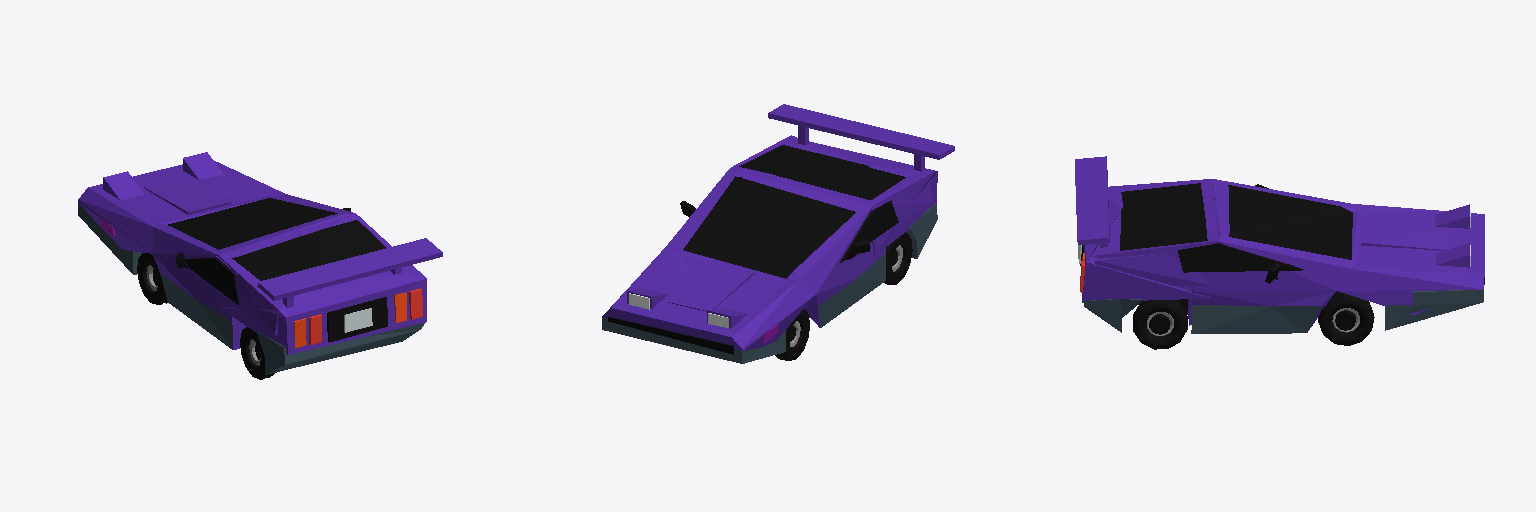
3 views of the same model, side by side, from view 1: azimuth 30°, elevation 25°; view 2: azimuth 150°, elevation 25°; view 3: azimuth 270°, elevation 25° (orthographic).
Parts seen in each view (by area): view 1: group[number redacted], group[number redacted], group[number redacted], group[number redacted], group[number redacted], group[number redacted], group[number redacted], group[number redacted], group[number redacted], group[number redacted], group[number redacted], group[number redacted] (+1 smaller); view 2: group[number redacted], group[number redacted], group[number redacted], group[number redacted], group[number redacted], group[number redacted], group[number redacted], group[number redacted], group[number redacted], group[number redacted], group[number redacted]; view 3: group[number redacted], group[number redacted], group[number redacted], group[number redacted], group[number redacted], group[number redacted], group[number redacted], group[number redacted], group[number redacted], group[number redacted], group[number redacted], group[number redacted].
Part boxes in pixels (x1,y1,x2,y2): group[number redacted]: (78, 161, 354, 349); group[number redacted]: (218, 213, 426, 354); group[number redacted]: (257, 238, 442, 300); group[number redacted]: (256, 323, 424, 374); group[number redacted]: (144, 177, 230, 214); group[number redacted]: (327, 297, 387, 342); group[number redacted]: (185, 257, 239, 304); group[number redacted]: (216, 256, 277, 335); group[number redacted]: (78, 203, 141, 274); group[number redacted]: (137, 253, 166, 304); group[number redacted]: (103, 171, 143, 199); group[number redacted]: (183, 152, 223, 179); group[number redacted]: (602, 168, 885, 350); group[number redacted]: (731, 135, 937, 255); group[number redacted]: (768, 104, 954, 159); group[number redacted]: (667, 261, 754, 311); group[number redacted]: (602, 317, 785, 363); group[number redacted]: (840, 200, 898, 262); group[number redacted]: (871, 180, 931, 244); group[number redacted]: (608, 317, 733, 354); group[number redacted]: (884, 232, 912, 284); group[number redacted]: (906, 204, 937, 258); group[number redacted]: (779, 309, 809, 360); group[number redacted]: (1188, 179, 1484, 333); group[number redacted]: (1082, 179, 1217, 302); group[number redacted]: (1075, 156, 1109, 244); group[number redacted]: (1178, 243, 1303, 272); group[number redacted]: (1385, 290, 1483, 330); group[number redacted]: (1095, 253, 1214, 285); group[number redacted]: (1361, 222, 1450, 250); group[number redacted]: (1133, 300, 1187, 349); group[number redacted]: (1318, 294, 1374, 345); group[number redacted]: (1083, 299, 1142, 332); group[number redacted]: (1435, 204, 1469, 228); group[number redacted]: (1436, 243, 1469, 267).
Size of the model in its own units: 0.7857 by 0.4904 by 1.53.